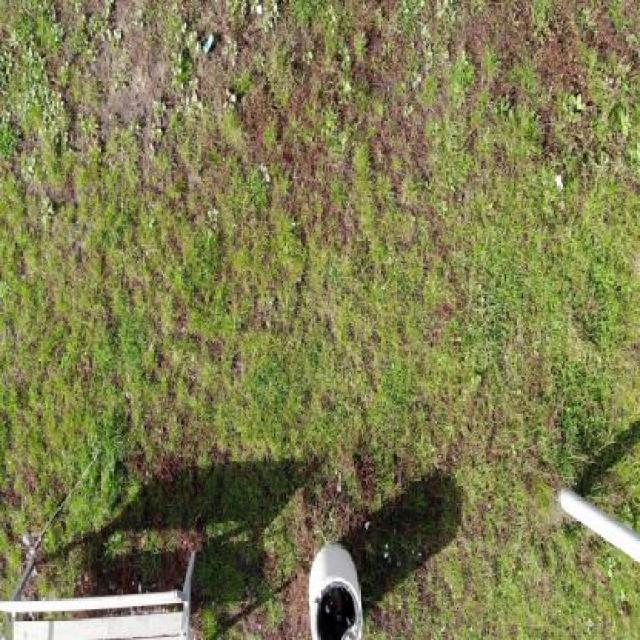Garbage: (203, 32, 215, 60)
